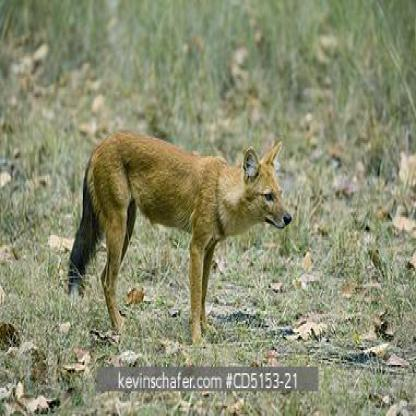dhole: (64, 128, 291, 349)
